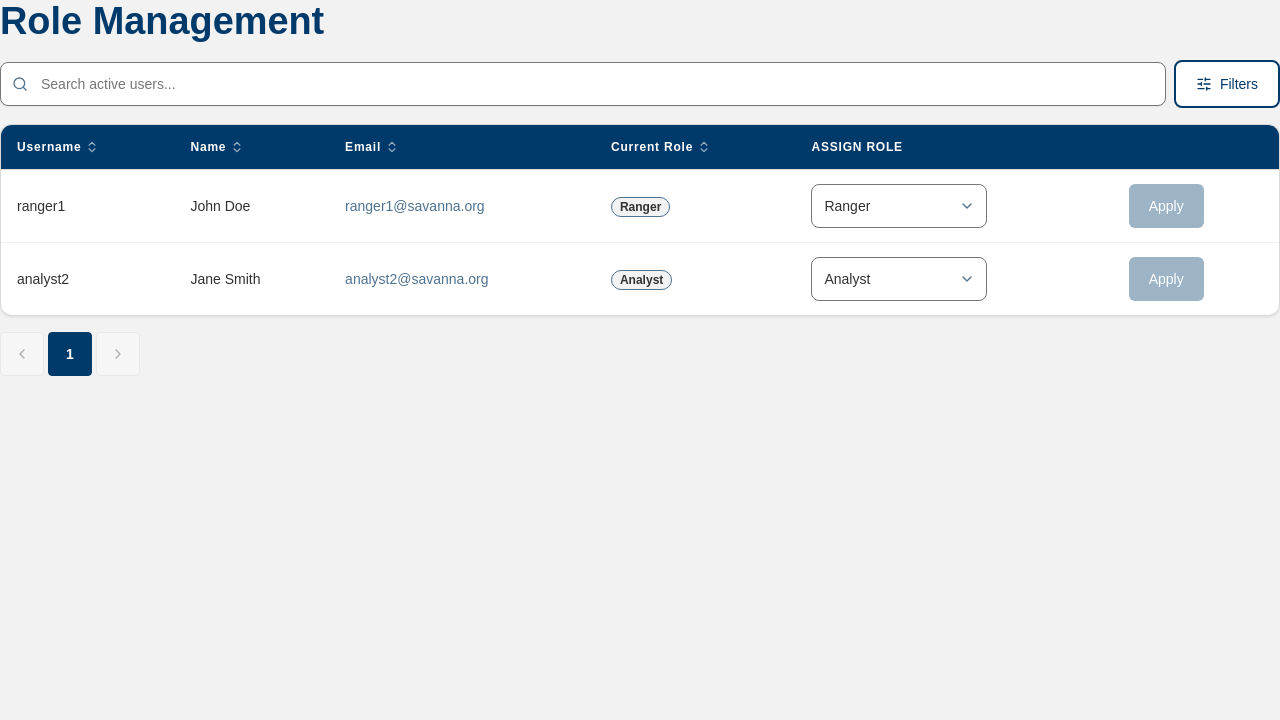
Scenario: RoleSwap - Role Management › closes the confirmation dialog via the header close button without applying the change
Expected: the text "ranger1" is shown, [1,169,174,242]
Select "Analyst" in the dropdown in the row of "John Doe" at (899, 206), box [811,184,987,228]
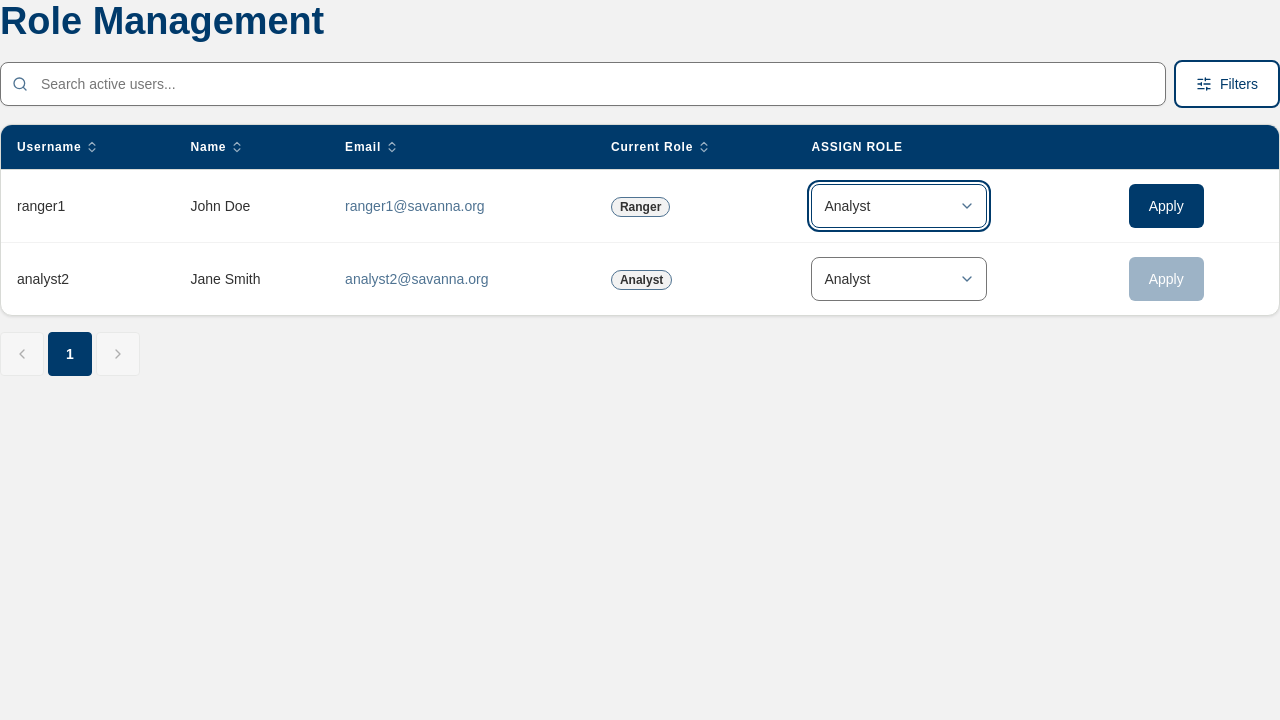
Click the button "Apply" in the row of "John Doe" at (1166, 206), box [1127,182,1206,230]
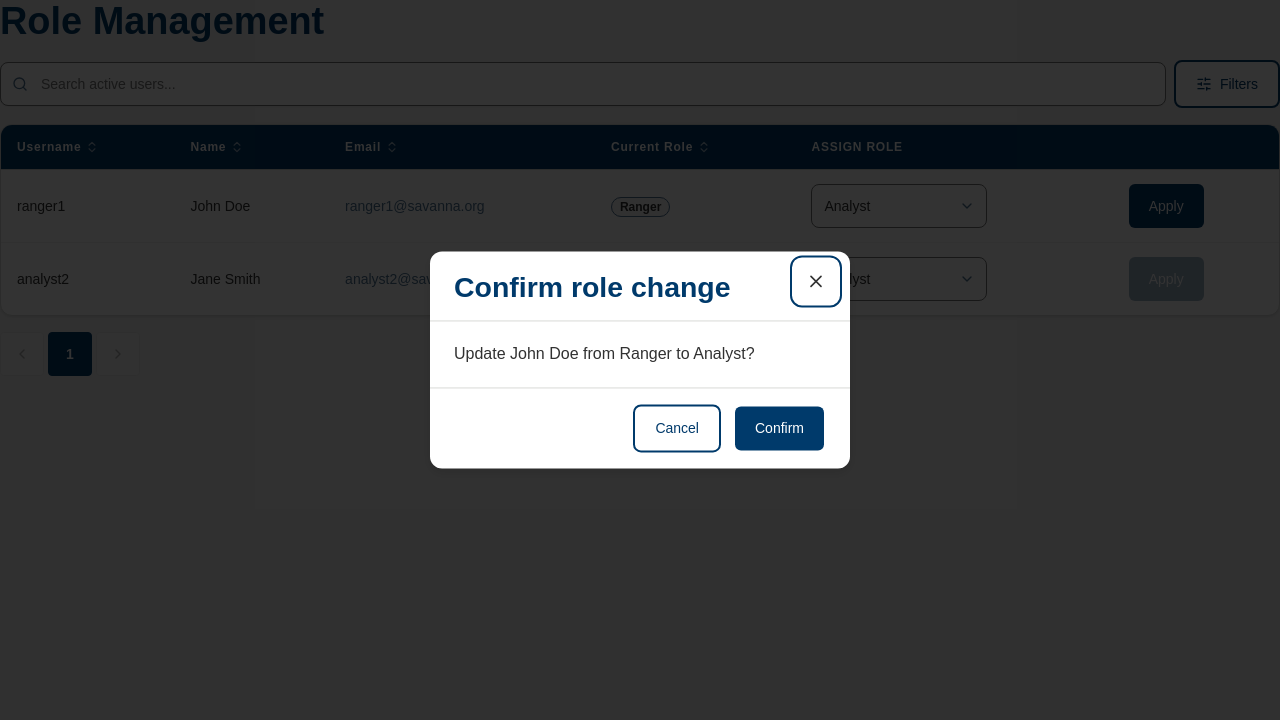
Click the button named "cancel, close dialog" at (816, 281), box [794,259,838,303]
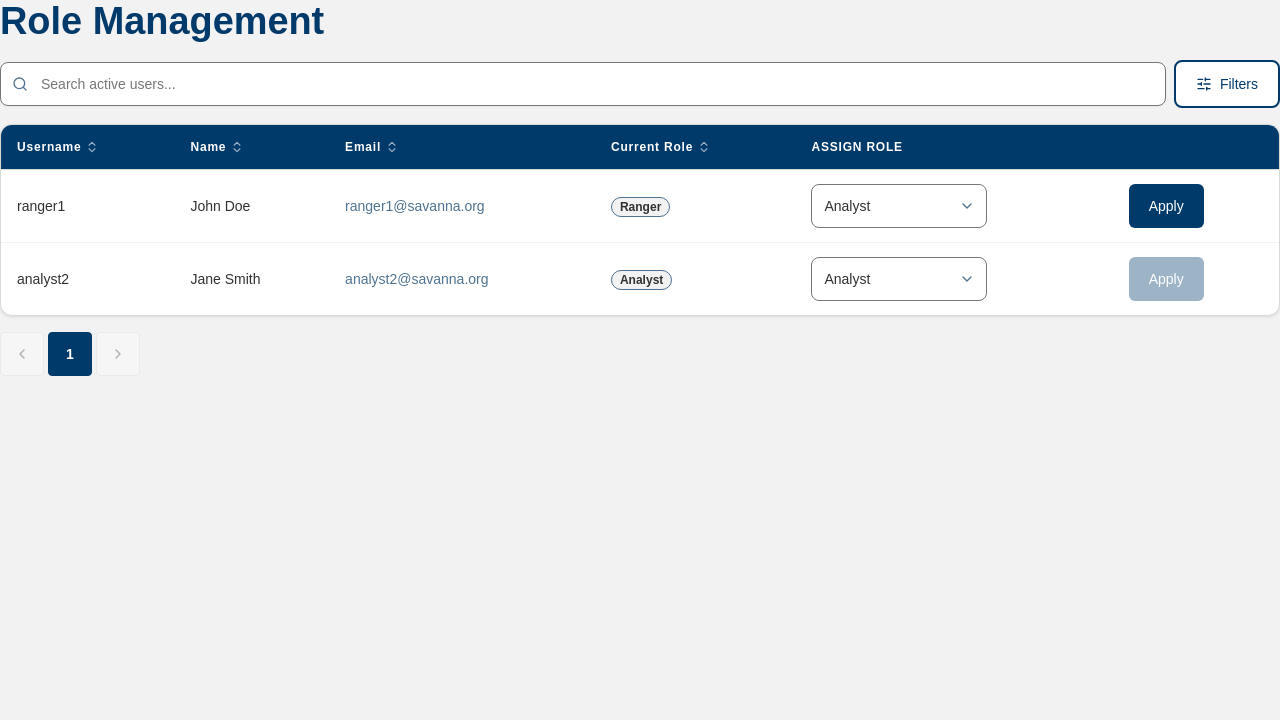
Expected: the dialog is gone
